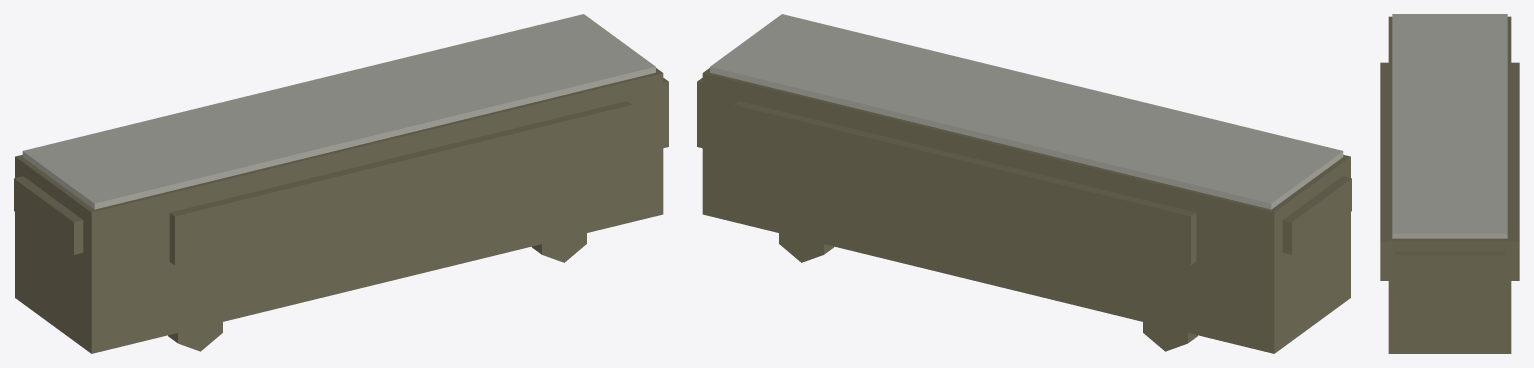
File: SM_AutobusCruzado_v3_Quemado_LOD1.fbx
The picture shows the model from 3 angles, left to right: view 1: azimuth 30°, elevation 25°; view 2: azimuth 150°, elevation 25°; view 3: azimuth 270°, elevation 25°; orthographic projection. The views are drawn at different scales.
Parts seen in each view (by area): view 1: SM_aqui_paso_algo_v18_LOD1; view 2: SM_aqui_paso_algo_v18_LOD1; view 3: SM_aqui_paso_algo_v18_LOD1.
Part boxes in pixels (box(x1,y1,x2,y2)): SM_aqui_paso_algo_v18_LOD1: box(14, 14, 668, 353); SM_aqui_paso_algo_v18_LOD1: box(697, 14, 1351, 353); SM_aqui_paso_algo_v18_LOD1: box(1380, 14, 1519, 353).
Size of the model in its own units: 11.36 by 3.16 by 2.9.
